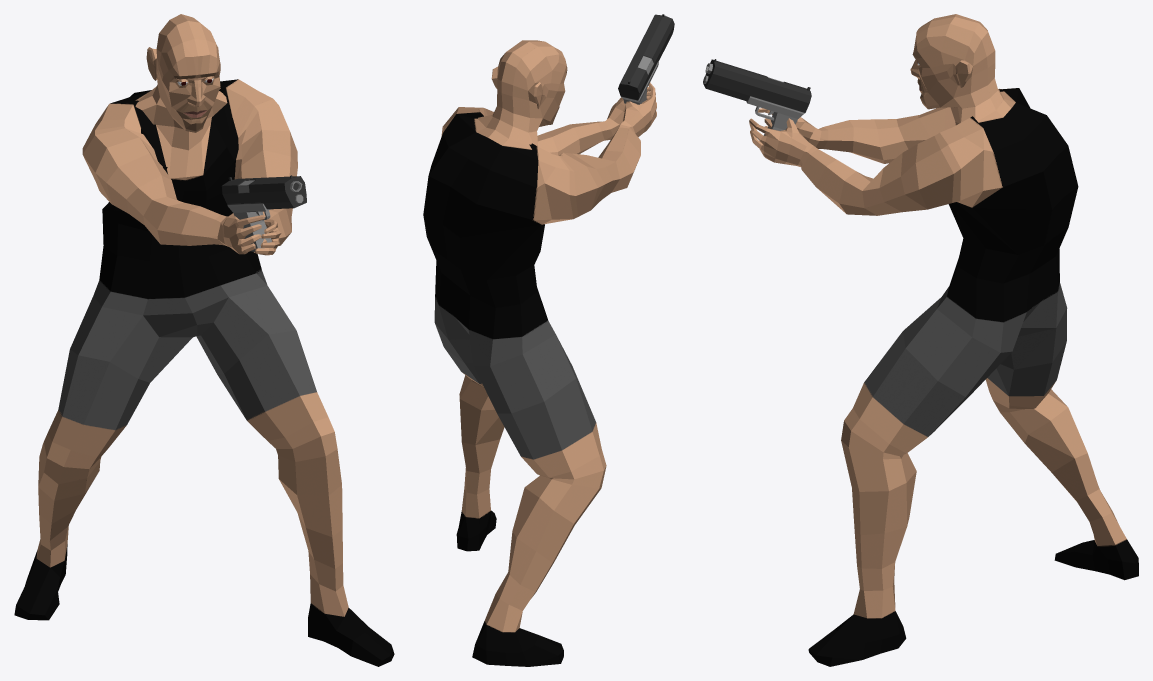
File: PlayerShoot(10).obj
3 renders of one model, left to right at view 1: azimuth 30°, elevation 25°; view 2: azimuth 150°, elevation 25°; view 3: azimuth 270°, elevation 25°, orthographic. The views are drawn at different scales.
Visible parts, largest first — view 1: Plane002, Box003; view 2: Plane002, Box003; view 3: Plane002, Box003.
Boxes of the visible parts, <box> form: Plane002: <box>14,14,394,666</box>; Box003: <box>221,175,306,251</box>; Plane002: <box>423,40,656,666</box>; Box003: <box>618,14,674,104</box>; Plane002: <box>749,14,1138,666</box>; Box003: <box>703,59,811,135</box>.
Bounding box in the file's own units: 715 × 1673 × 1129.
